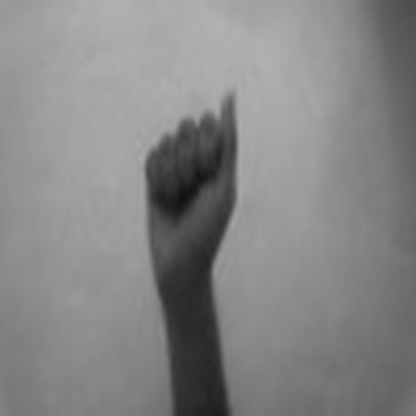a: (132, 75, 248, 275)
